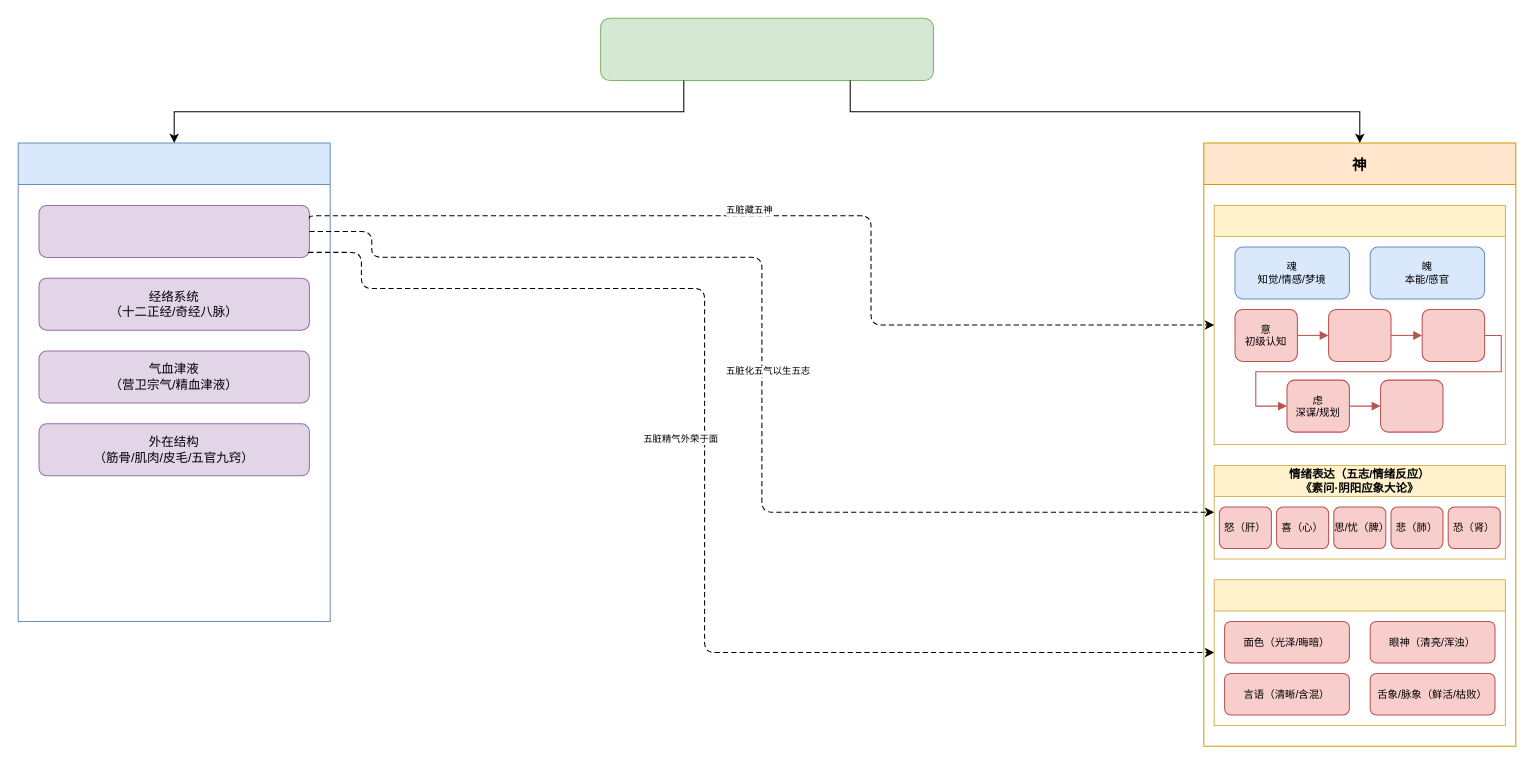
Some shapes in this 1534 by 764 pixel diagram are drawn without their labels. The box of each missing label's shape, as (x1, y1, x2, y2) in pixels:
五脏六腑 （肝/心/脾/肺/肾）: (38, 204, 309, 257)
形 气在生命尺度上的凝聚: (17, 142, 330, 621)
形与神俱: (600, 17, 933, 81)
志 定力/记忆: (1328, 308, 1391, 361)
思 分析/推理: (1421, 308, 1485, 361)
智 决策/行动: (1380, 379, 1443, 432)
生命状态表达（生命力表现） 临床诊断（望诊）: (1213, 579, 1505, 725)
精神表达（五神/认知功能） 《灵枢·本神》: (1213, 204, 1505, 445)
